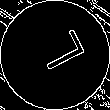L_SW: (25, 29, 85, 81)
